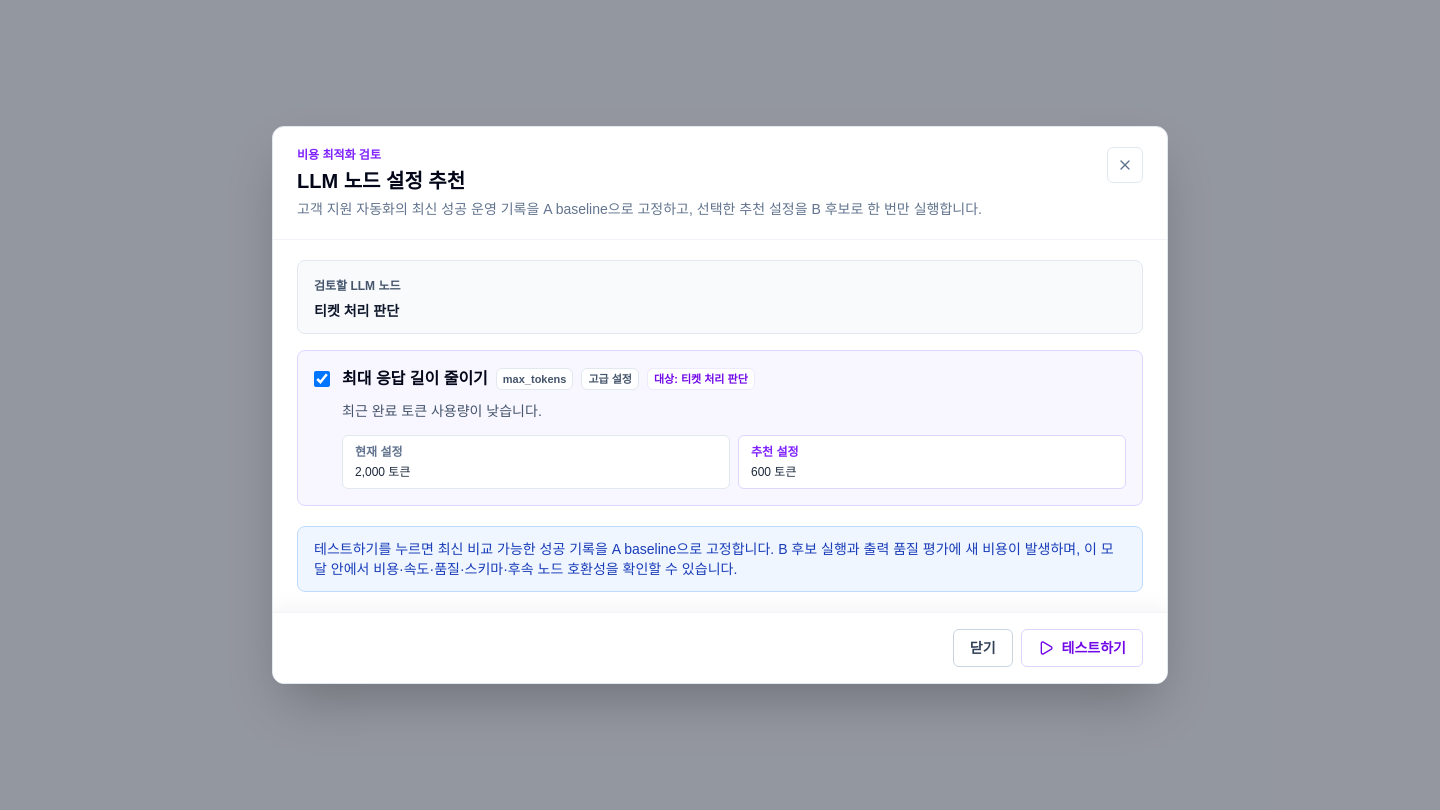
FR-013 추천 설정 인라인 검증 모달 › stale 응답은 null 결과를 읽지 않고 재시도 안내만 표시한다
Click the button "테스트하기": point(1082, 648) [1021,629,1143,667]
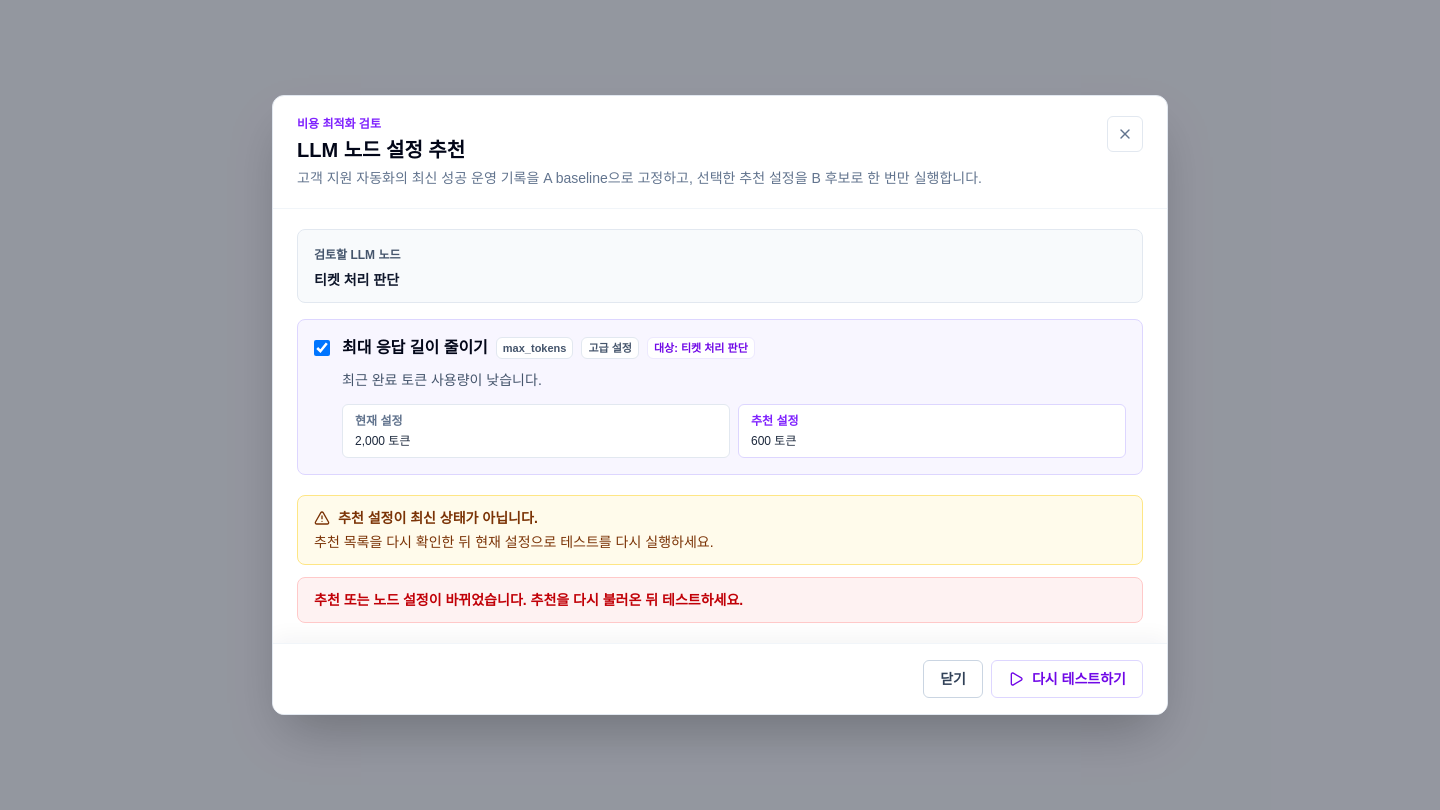
Check: the button "다시 테스트하기" is enabled, box [991,660,1143,698]
Check: the text "추천 설정이 최신 상태가 아닙니다." is shown, box [314,510,538,526]
